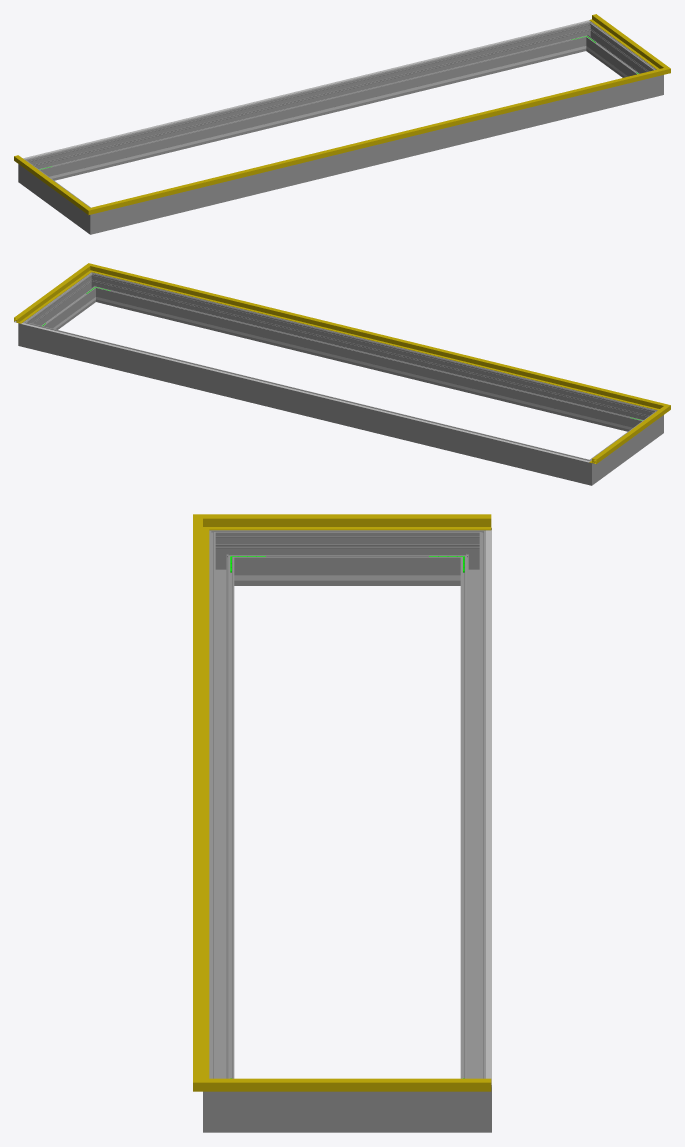
The picture shows the model from 3 angles, top to bottom: view 1: azimuth 30°, elevation 25°; view 2: azimuth 150°, elevation 25°; view 3: azimuth 270°, elevation 25°; orthographic projection. The views are drawn at different scales.
Parts seen in each view (by area): view 1: 3DGeom-276, 3DGeom-298, 3DGeom-123, 3DGeom-244, 3DGeom-297, 3DGeom-220, 3DGeom-268, 3DGeom-128, 3DGeom-118, 3DGeom-270, 3DGeom-284, 3DGeom-290; view 2: 3DGeom-298, 3DGeom-276, 3DGeom-123, 3DGeom-239, 3DGeom-297, 3DGeom-220, 3DGeom-268, 3DGeom-128, 3DGeom-118, 3DGeom-278, 3DGeom-284, 3DGeom-290; view 3: 3DGeom-298, 3DGeom-276, 3DGeom-268, 3DGeom-123, 3DGeom-297, 3DGeom-118, 3DGeom-128, 3DGeom-220, 3DGeom-284, 3DGeom-290, 3DGeom-278, 3DGeom-270 (+1 smaller).
Part boxes in pixels (<box>): 3DGeom-276: <box>36,24,583,180</box>; 3DGeom-298: <box>106,79,647,230</box>; 3DGeom-123: <box>102,71,654,210</box>; 3DGeom-244: <box>55,49,570,177</box>; 3DGeom-297: <box>587,27,651,77</box>; 3DGeom-220: <box>23,20,590,159</box>; 3DGeom-268: <box>27,165,85,227</box>; 3DGeom-128: <box>589,14,661,67</box>; 3DGeom-118: <box>14,155,83,207</box>; 3DGeom-270: <box>81,204,106,234</box>; 3DGeom-284: <box>577,21,598,51</box>; 3DGeom-290: <box>648,66,663,98</box>; 3DGeom-298: <box>98,275,646,431</box>; 3DGeom-276: <box>34,325,578,481</box>; 3DGeom-123: <box>100,267,654,408</box>; 3DGeom-239: <box>111,300,627,428</box>; 3DGeom-297: <box>30,278,94,329</box>; 3DGeom-220: <box>21,323,589,462</box>; 3DGeom-268: <box>596,416,654,478</box>; 3DGeom-128: <box>14,270,85,323</box>; 3DGeom-118: <box>589,411,661,463</box>; 3DGeom-278: <box>575,455,601,485</box>; 3DGeom-284: <box>18,317,37,349</box>; 3DGeom-290: <box>83,272,104,302</box>; 3DGeom-298: <box>209,543,234,1078</box>; 3DGeom-276: <box>460,543,485,1078</box>; 3DGeom-268: <box>240,530,454,585</box>; 3DGeom-123: <box>193,530,209,1075</box>; 3DGeom-297: <box>240,1091,454,1132</box>; 3DGeom-118: <box>230,514,491,530</box>; 3DGeom-128: <box>230,1078,491,1091</box>; 3DGeom-220: <box>486,530,491,1084</box>; 3DGeom-284: <box>454,1071,491,1132</box>; 3DGeom-290: <box>203,1071,240,1132</box>; 3DGeom-278: <box>454,527,491,585</box>; 3DGeom-270: <box>209,530,240,585</box>.
Size of the model in its own units: 5.49 by 0.2434 by 1.22.
